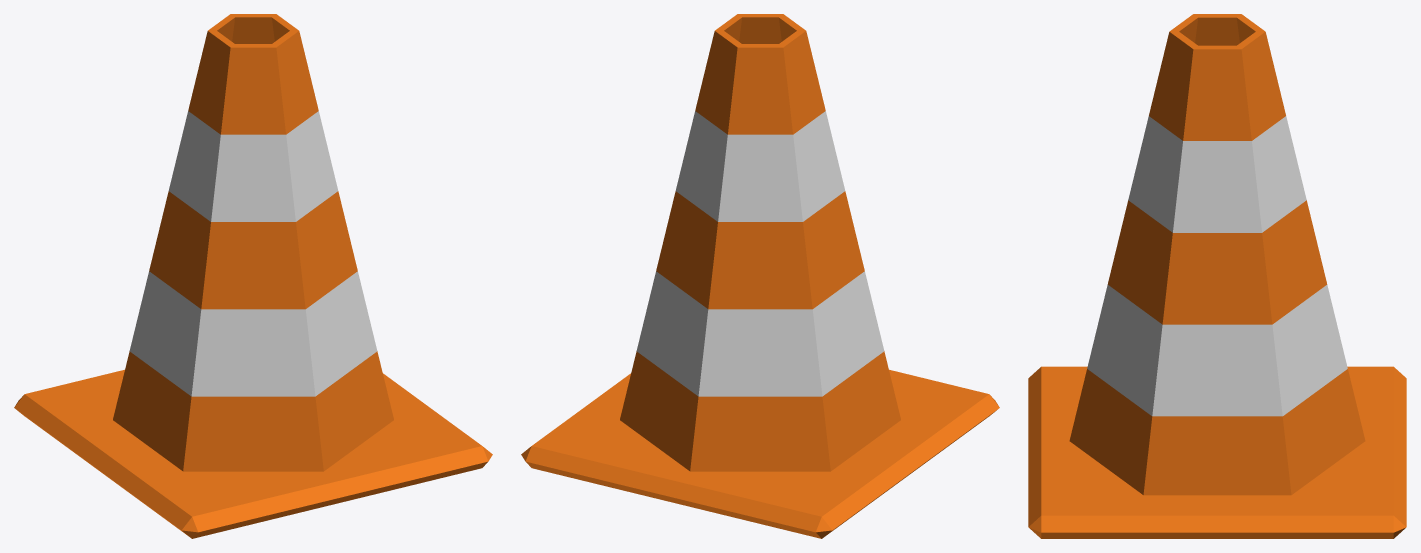
Rendered from TrafficCone.fbx.
The picture shows the model from 3 angles, left to right: view 1: azimuth 30°, elevation 25°; view 2: azimuth 150°, elevation 25°; view 3: azimuth 270°, elevation 25°; orthographic projection. The views are drawn at different scales.
Parts seen in each view (by area): view 1: Cone; view 2: Cone; view 3: Cone.
Boxes of the visible parts, bbox=[...] form: Cone: bbox=[14, 14, 492, 538]; Cone: bbox=[521, 14, 999, 538]; Cone: bbox=[1028, 14, 1406, 538].
Bounding box in the file's own units: 99.96 × 126 × 99.96.
